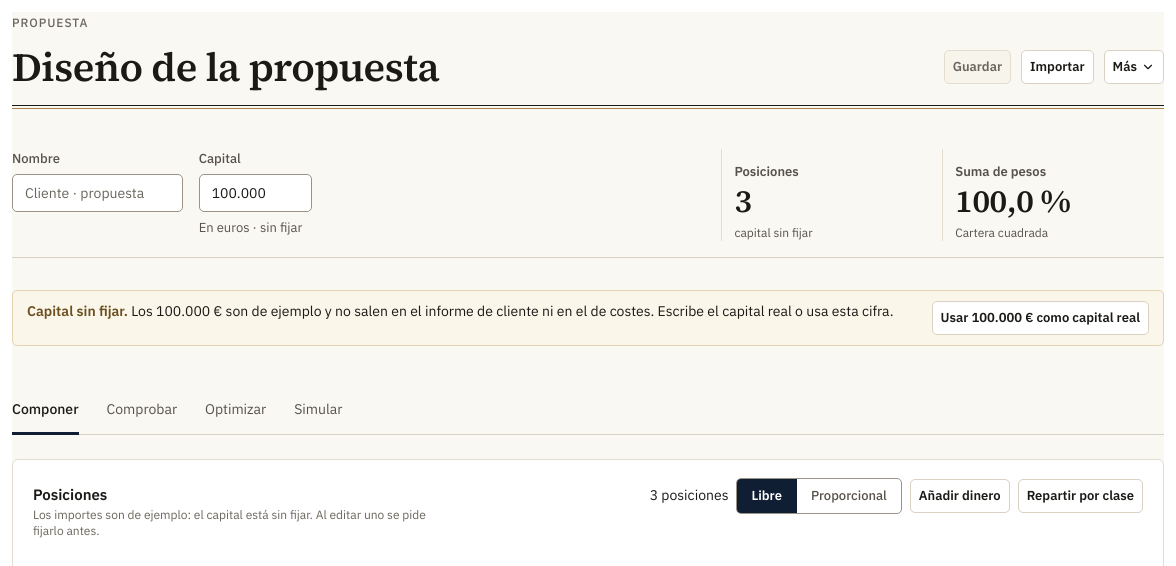
Scenario: hallazgos 48 y 13: el capital de ejemplo no pasa por real › el botón usa la cifra que hay, y al fijarla desaparece la nota
Click the button "Usar 100.000 € como capital real".
click(1040, 318)  # box x1=932 y1=301 x2=1149 y2=335
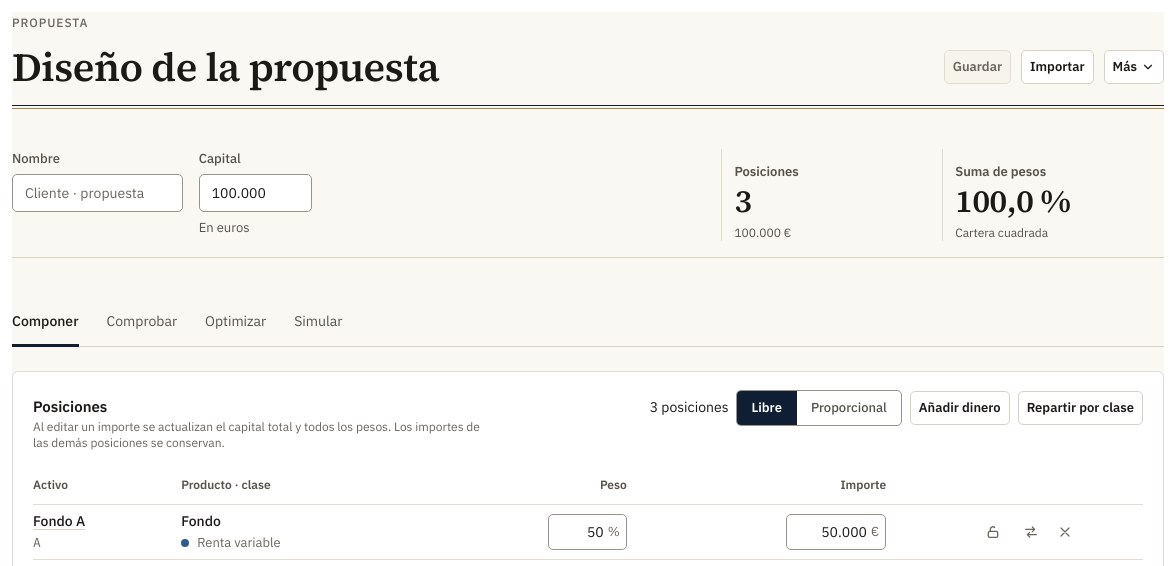
Now the element with test id "capital-ilustrativo" is gone
